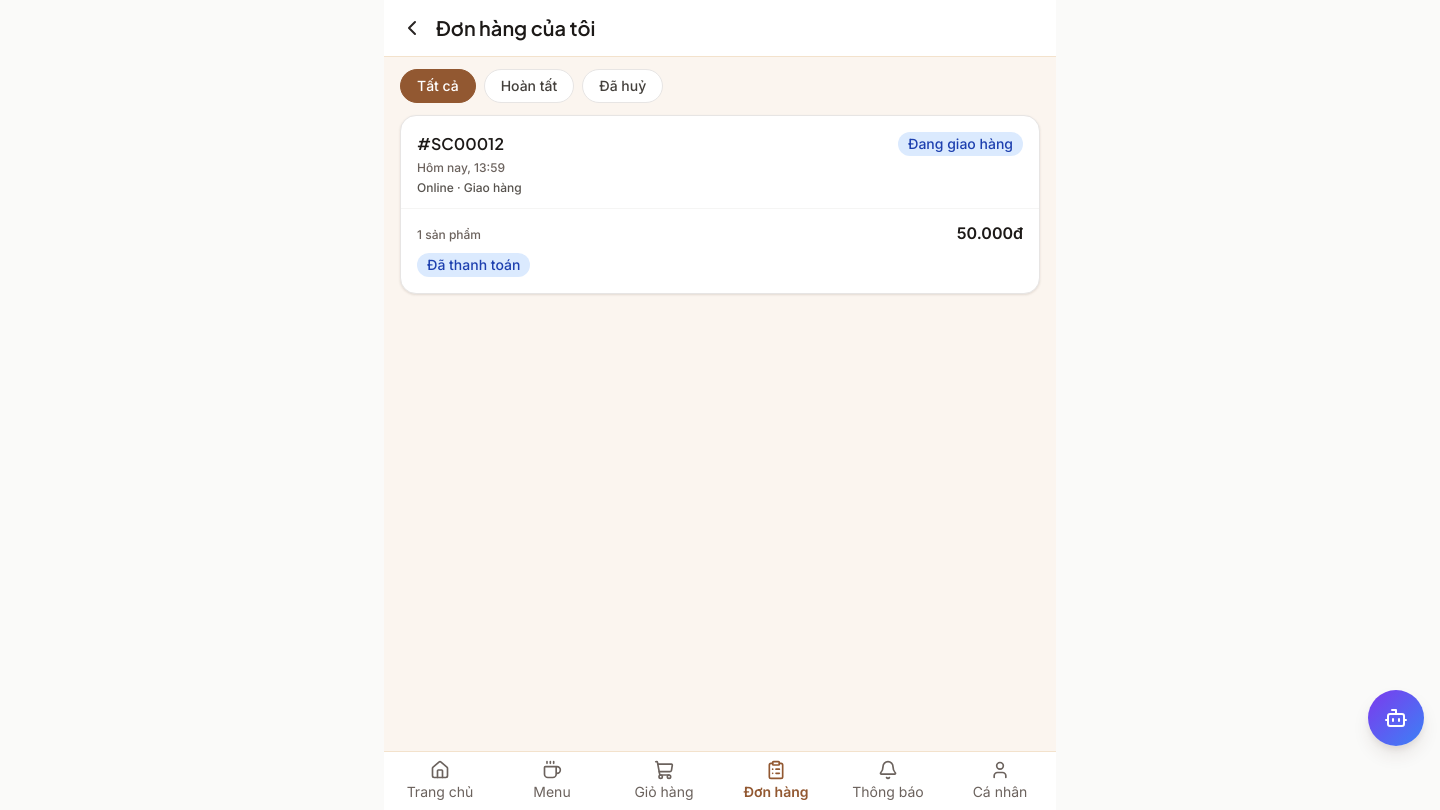
Scenario: /orders — tab lọc theo ORDER status › tab trống → thông báo riêng của tab
Click the tab "Hoàn tất" at (529, 86), box [484,69,574,103]
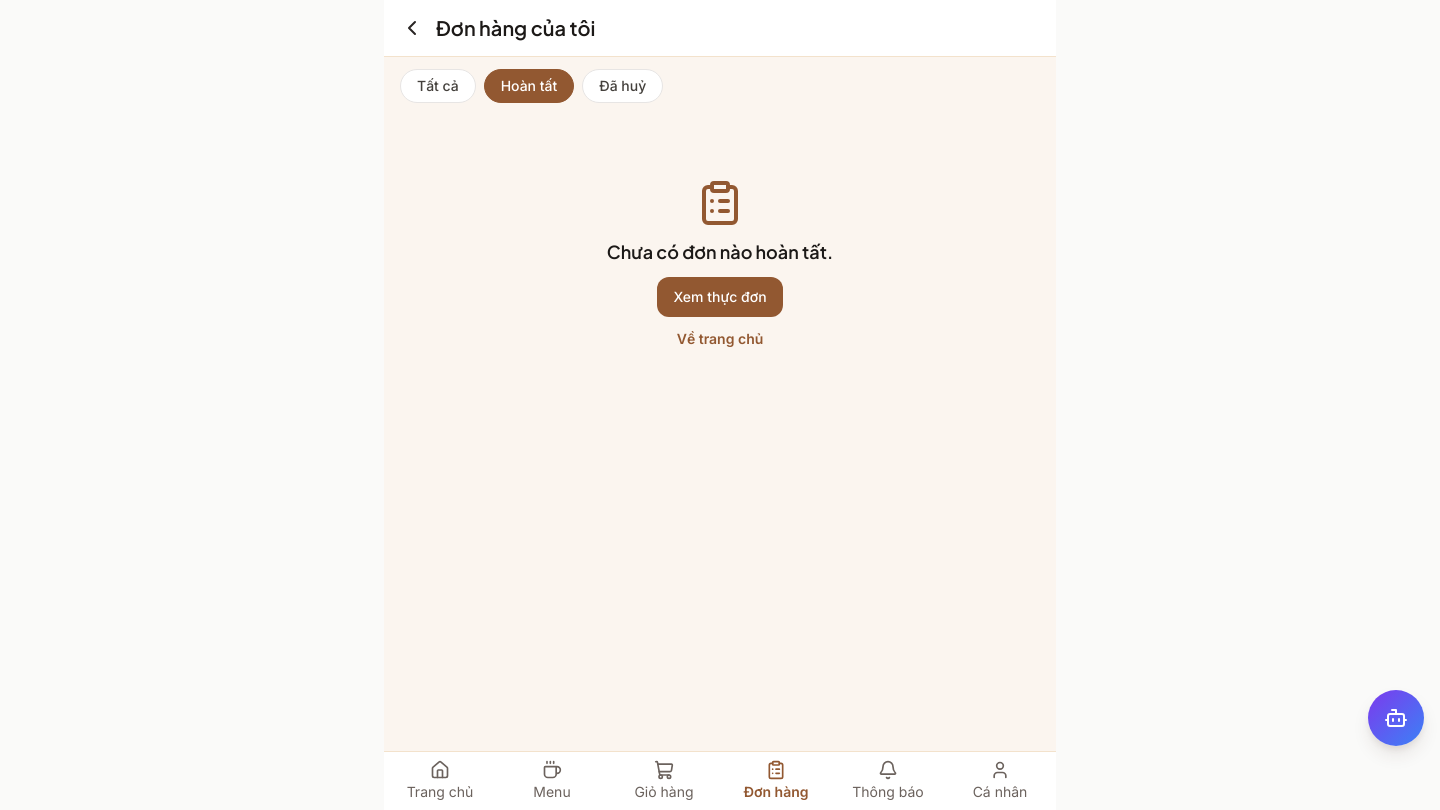
Expected: the heading "Chưa có đơn nào hoàn tất." is shown, [607,239,833,265]
Click the tab "Đã huỷ" at (623, 86), box [582,69,663,103]
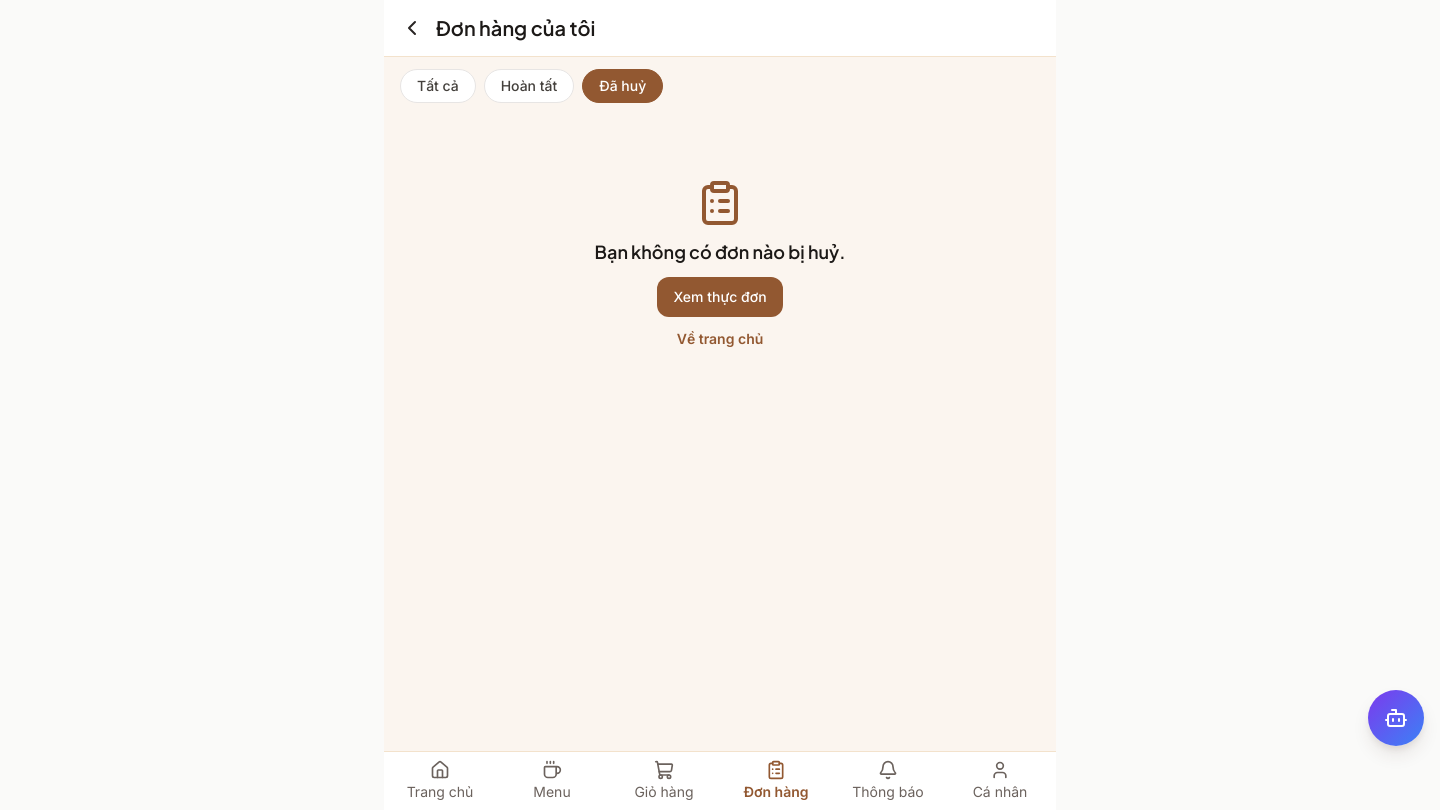
Expected: the heading "Bạn không có đơn nào bị huỷ." is shown, [594,239,845,265]
